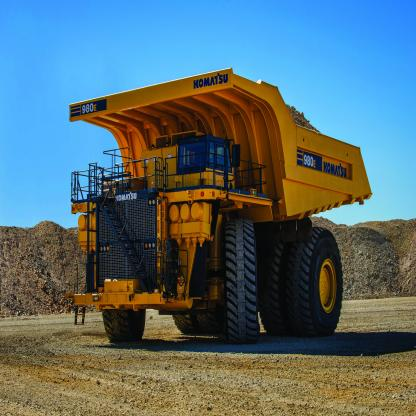dump_truck: (62, 66, 372, 351)
